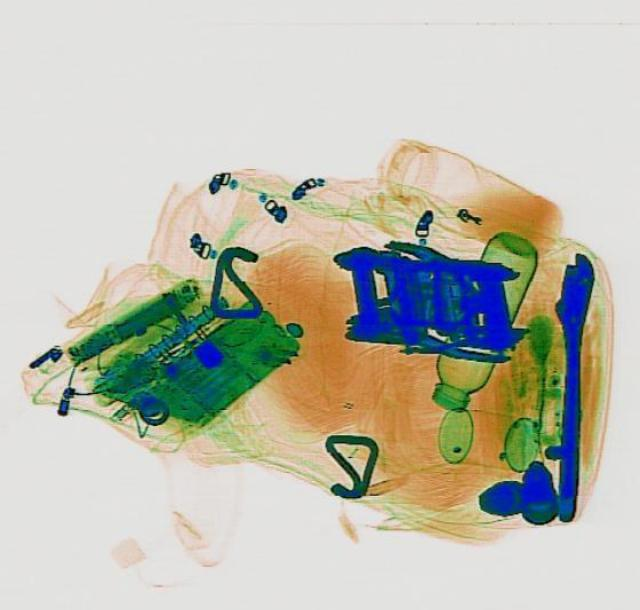Wrench: (541, 248, 593, 519)
